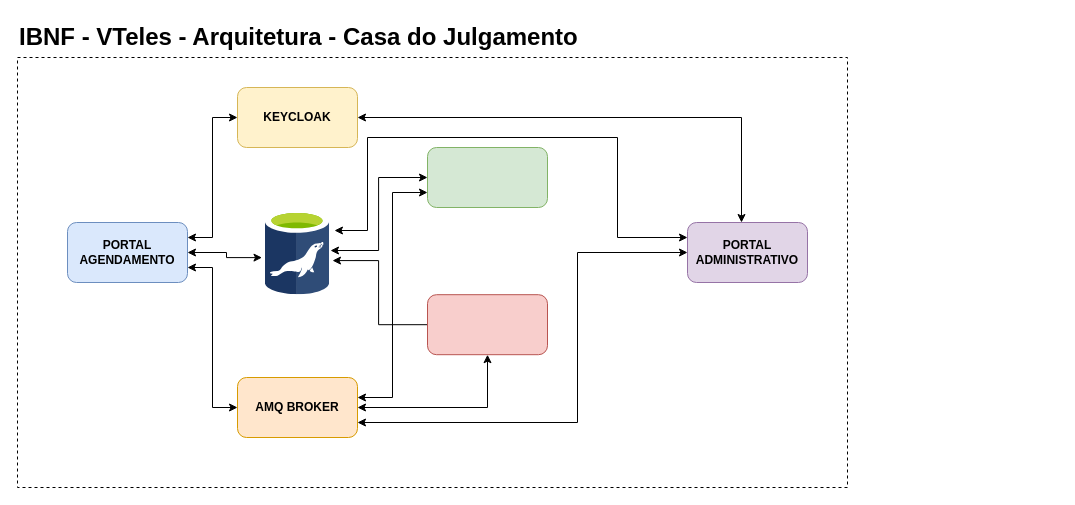
This 1075x505 diagram has some shape labels left out. The shapes that lost their labels are listed below. From the top down, each one's centre as x and y in pixels, then its label:
At point (487, 177): "IMPRESSAO".
At point (487, 324): "NOTIFICAÇÃO".
